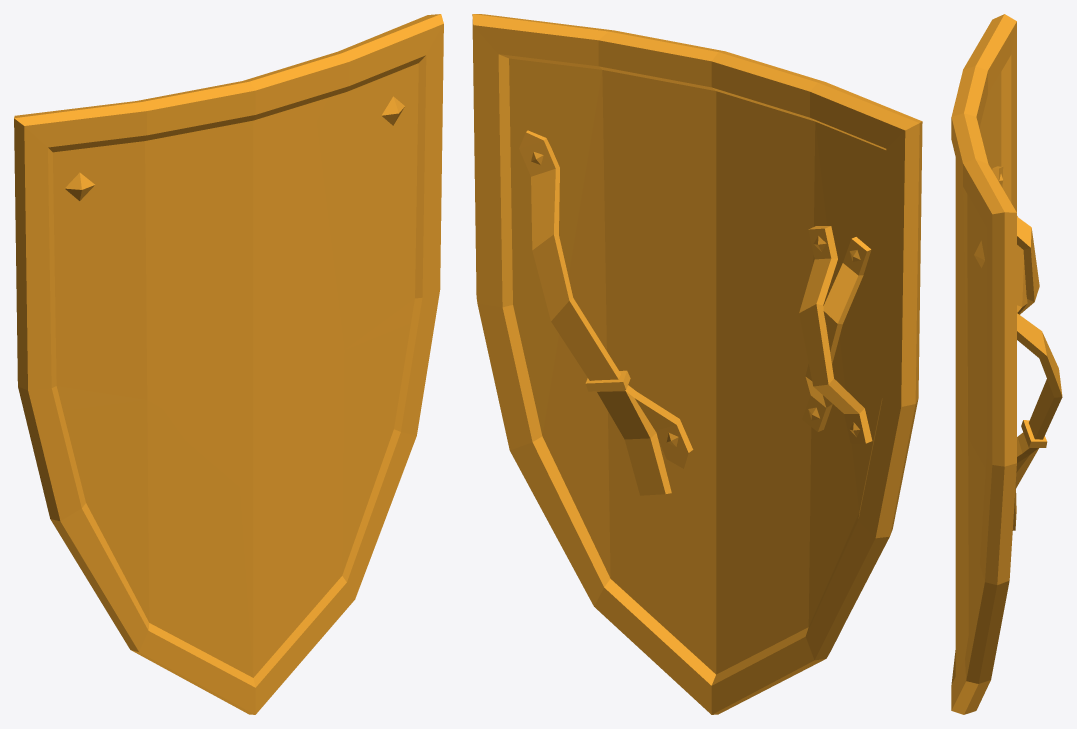
The model's file is SM_Shield_Heater_C.fbx.
The picture shows the model from 3 angles, left to right: view 1: azimuth 30°, elevation 25°; view 2: azimuth 150°, elevation 25°; view 3: azimuth 270°, elevation 25°; orthographic projection. The views are drawn at different scales.
Parts seen in each view (by area): view 1: shield-heater-c; view 2: shield-heater-c; view 3: shield-heater-c.
Part boxes in pixels (box(x1,y1,x2,y2)): shield-heater-c: box(14, 14, 443, 714); shield-heater-c: box(472, 14, 922, 714); shield-heater-c: box(951, 14, 1062, 714).
Bounding box in the file's own units: 0.5606 × 0.7934 × 0.1326.
